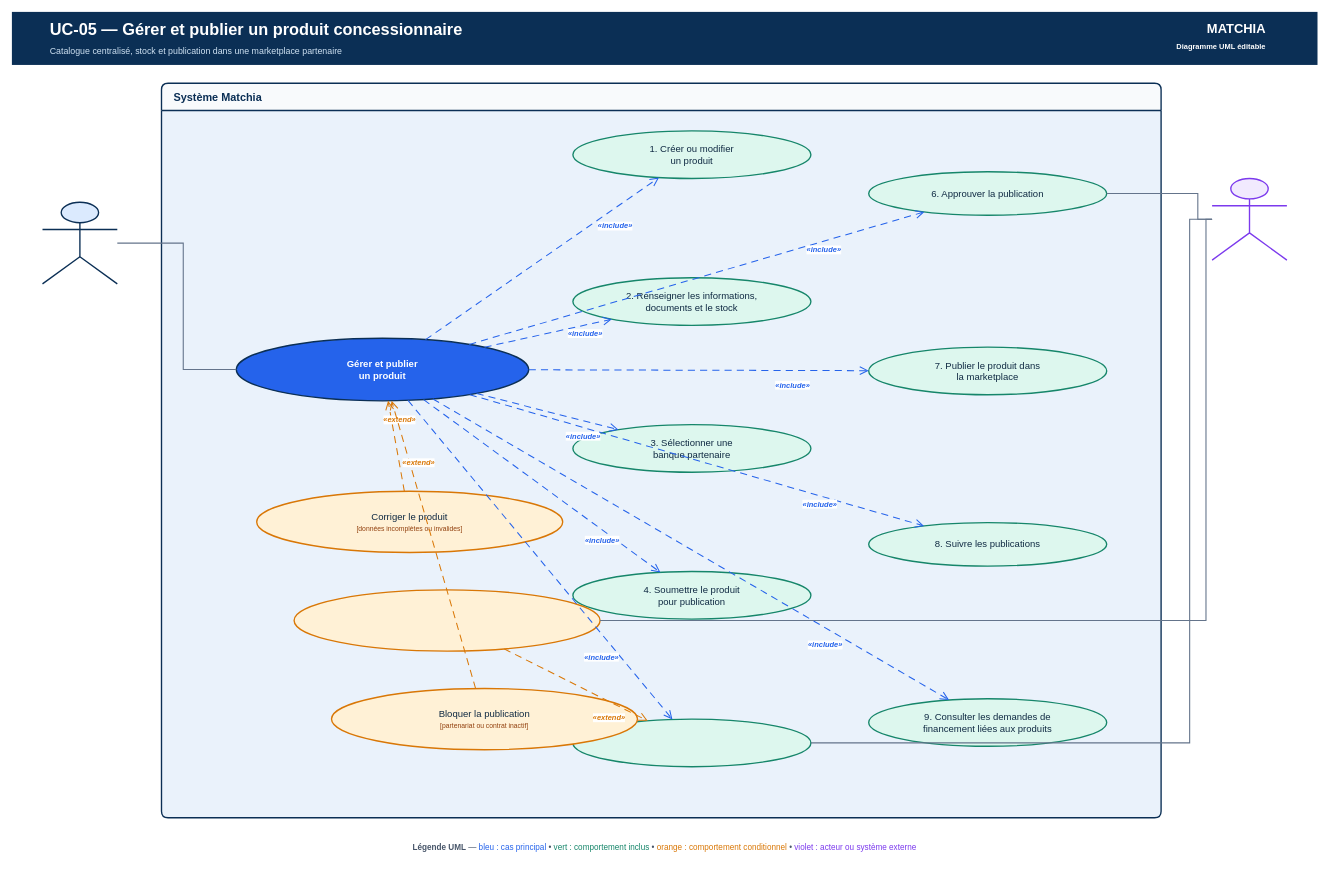
Image size: 1329x876. Some labels were removed from this diagram. The centre of each missing label's shape, as x and y in pixels:
5. Examiner la proposition de publication: (x=691, y=742)
Administrateur Banque: (x=1249, y=218)
Concessionnaire: (x=79, y=242)
Rejeter la publication [publication refusée]: (x=446, y=620)
